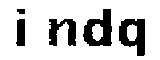d: (81, 5, 115, 51)
i: (11, 5, 34, 54)
n: (46, 14, 76, 49)
q: (118, 13, 147, 60)
